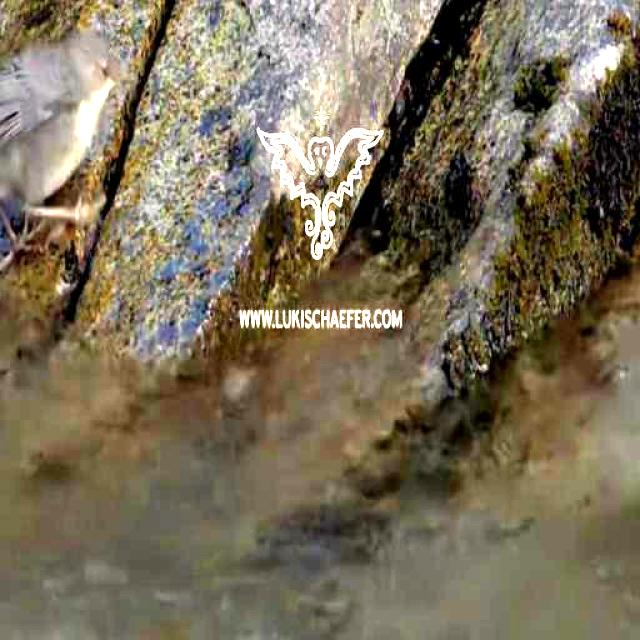airplane: (0, 6, 141, 260)
